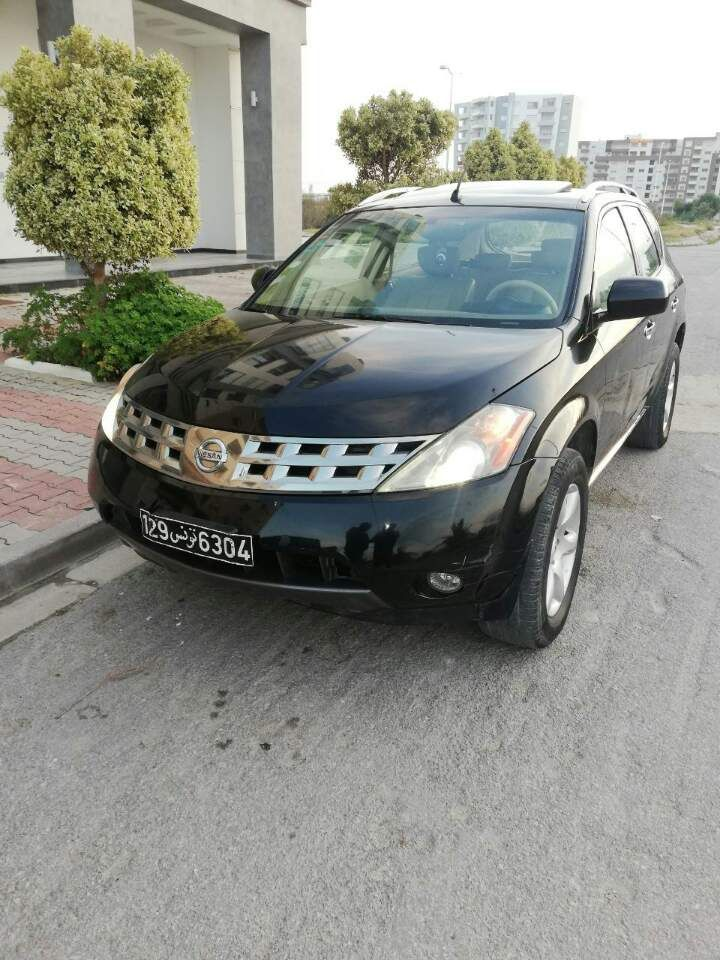LP: (138, 507, 254, 570)
